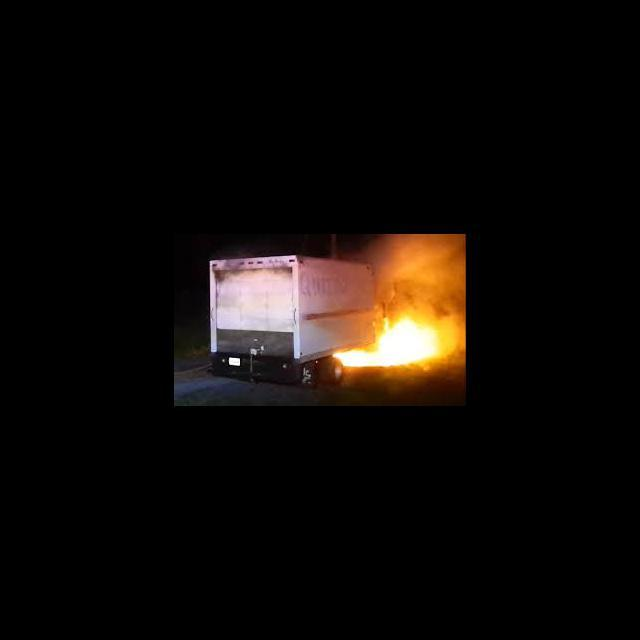Fire: (328, 318, 458, 368)
Smoke: (365, 237, 465, 305)
